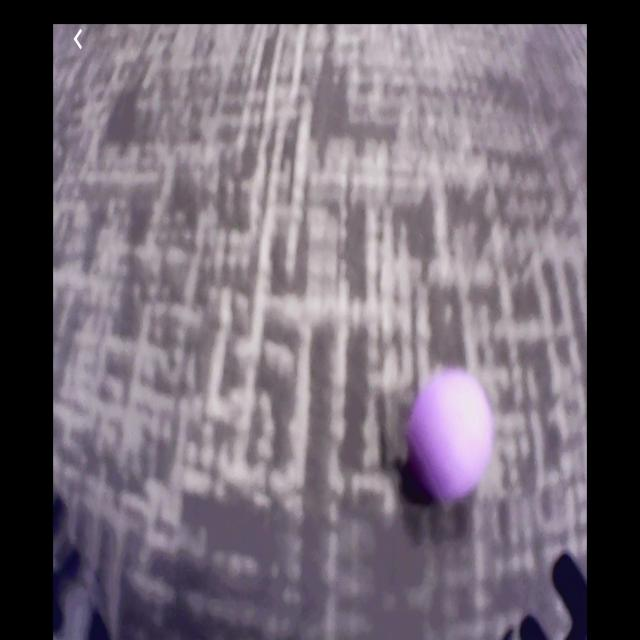ball: (413, 370, 494, 502)
